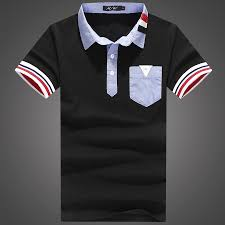S_polo shirt: (20, 5, 219, 218)
